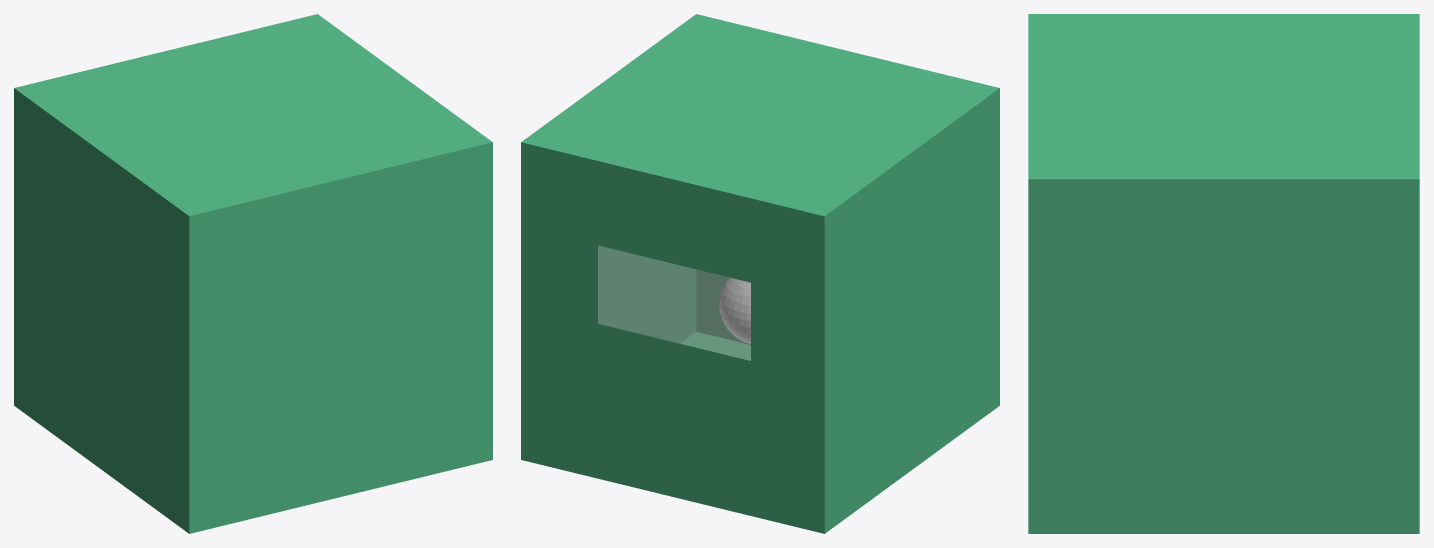
The picture shows the model from 3 angles, left to right: view 1: azimuth 30°, elevation 25°; view 2: azimuth 150°, elevation 25°; view 3: azimuth 270°, elevation 25°; orthographic projection. The views are drawn at different scales.
Parts seen in each view (by area): view 1: Cube_G1; view 2: Cube_G1, Glass_G1, Sphere; view 3: Cube_G1.
Boxes of the visible parts, x1,y1,x2,y2 form: Cube_G1: [14, 14, 492, 533]; Cube_G1: [521, 14, 999, 533]; Glass_G1: [598, 245, 750, 360]; Sphere: [719, 277, 750, 343]; Cube_G1: [1028, 14, 1419, 533].
Size of what is drawn, in the model's own units: 2 by 2 by 2.
